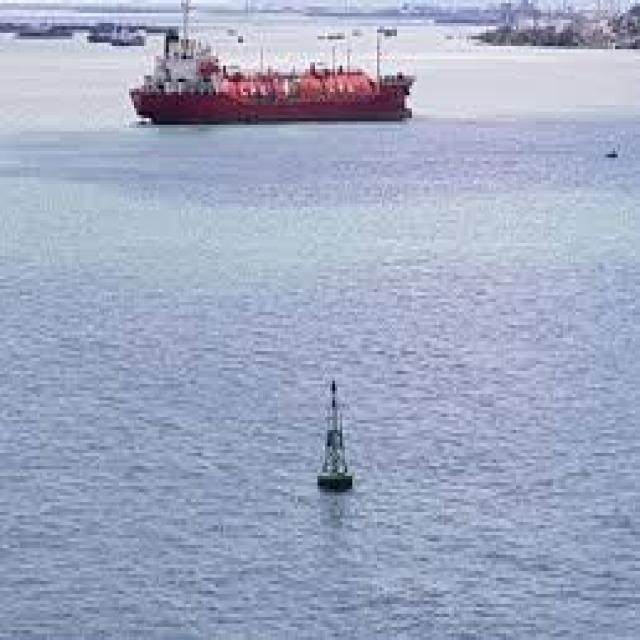2.2 cardinal mark -N-: (306, 369, 365, 513)
